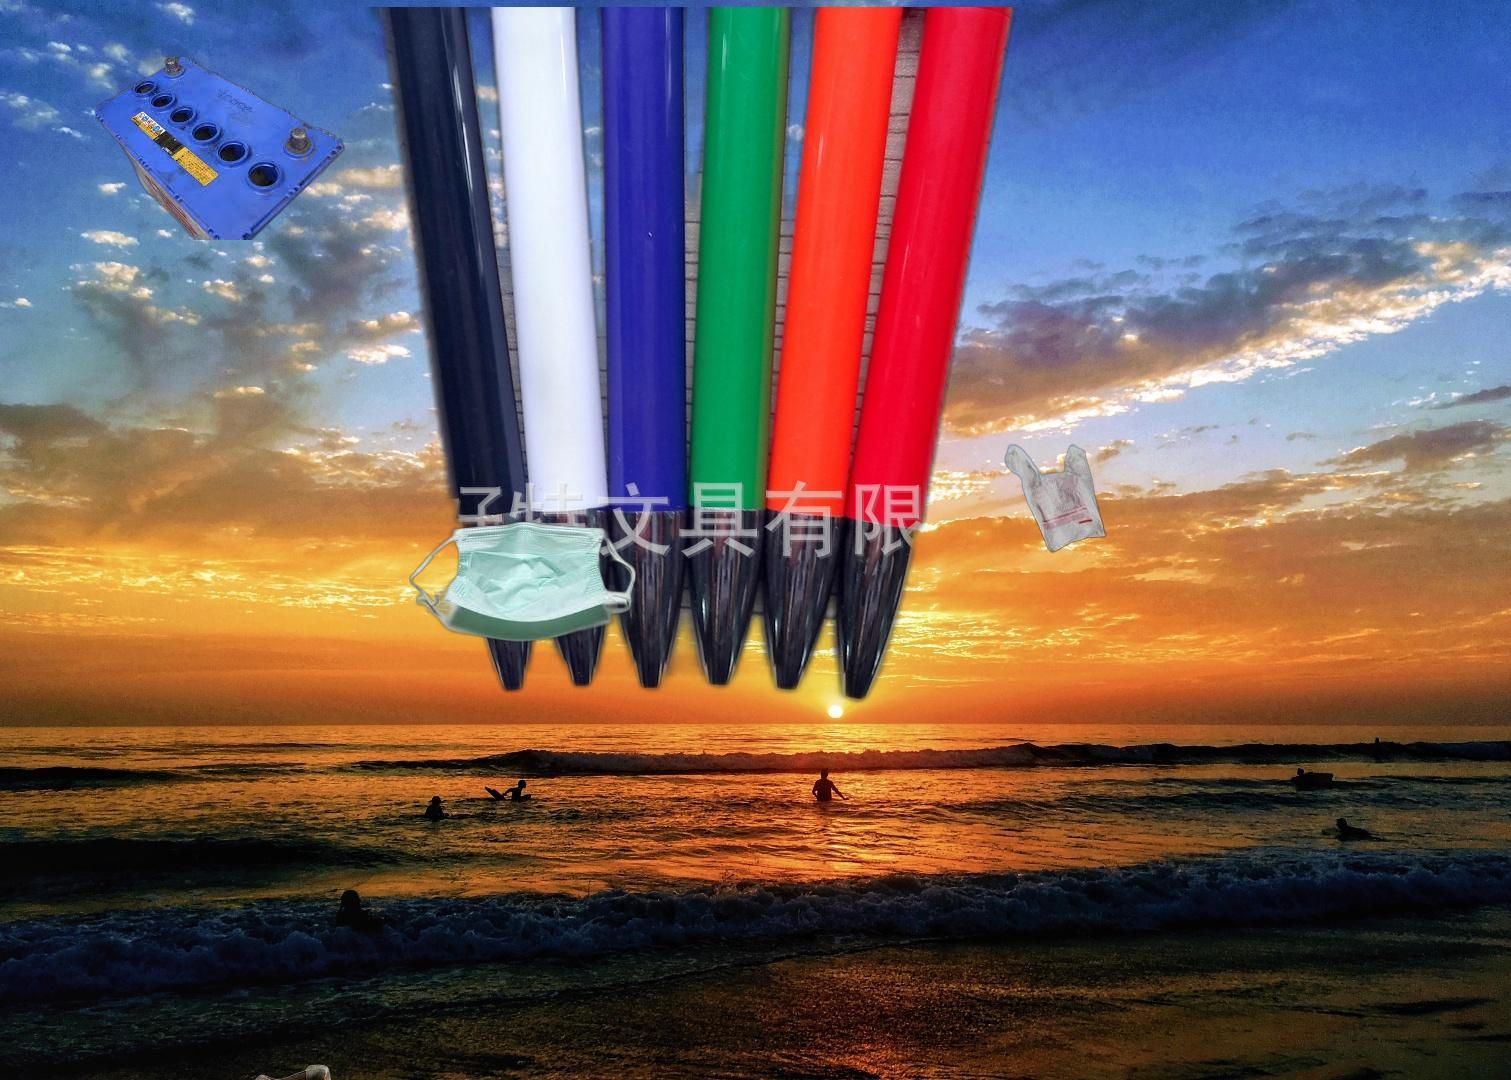battery: (96, 57, 347, 240)
penholder: (360, 7, 1035, 709)
plastic-bag: (1001, 441, 1108, 555)
shoes: (175, 1062, 386, 1080)
trash: (408, 519, 639, 646)
trashbox-cardboard: (376, 1076, 1511, 1080)
